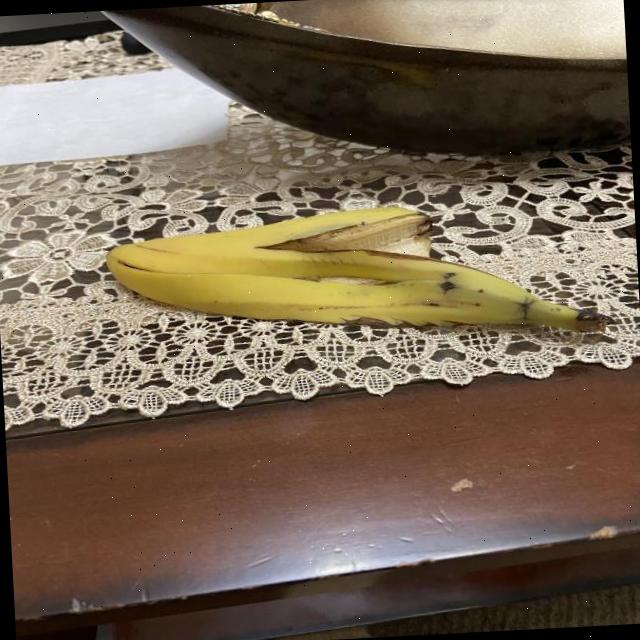banana-peel: (102, 193, 608, 359)
